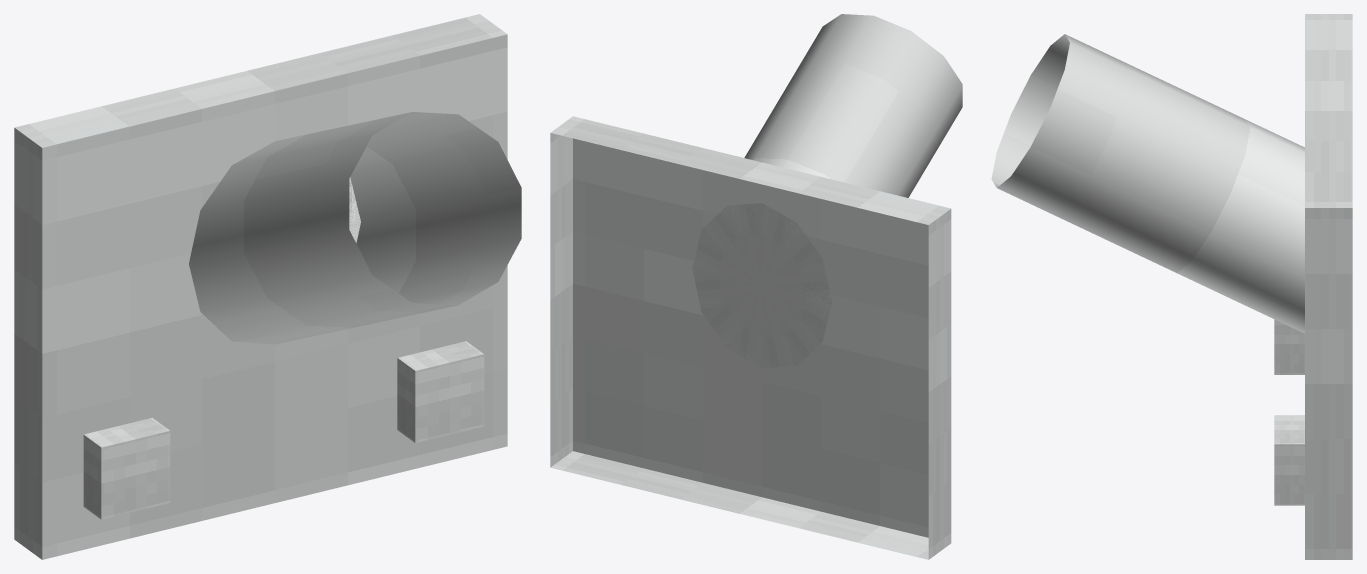
Rendered from luminairearm_truss15ftdouble_c12_wall.obj.
The picture shows the model from 3 angles, left to right: view 1: azimuth 30°, elevation 25°; view 2: azimuth 150°, elevation 25°; view 3: azimuth 270°, elevation 25°; orthographic projection. The views are drawn at different scales.
Visible parts, largest first — view 1: luminairearm_truss15ftdouble_c12_wall; view 2: luminairearm_truss15ftdouble_c12_wall; view 3: luminairearm_truss15ftdouble_c12_wall.
Boxes of the visible parts, <box> form: luminairearm_truss15ftdouble_c12_wall: <box>14,14,521,559</box>; luminairearm_truss15ftdouble_c12_wall: <box>550,14,962,559</box>; luminairearm_truss15ftdouble_c12_wall: <box>991,14,1352,559</box>.
Size of the model in its own units: 0.4222 by 0.4264 by 0.3321.
